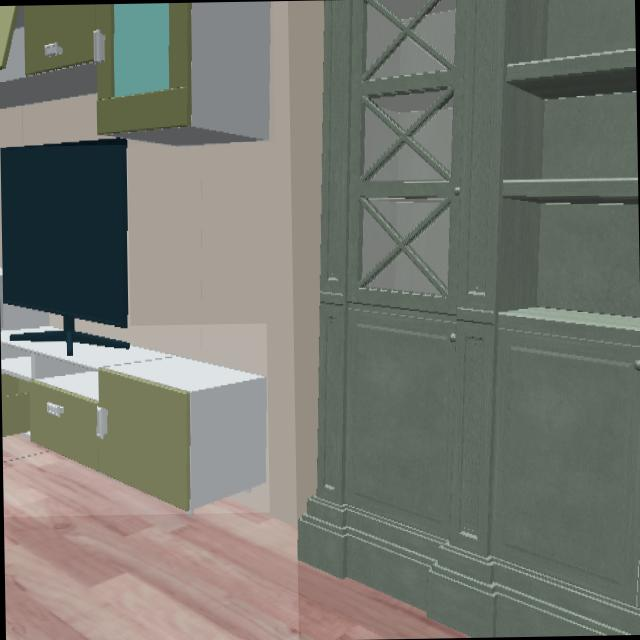bookshelf: (297, 0, 640, 637)
cabinet: (0, 327, 268, 513), (0, 1, 272, 144)
monitor: (0, 137, 127, 328)
